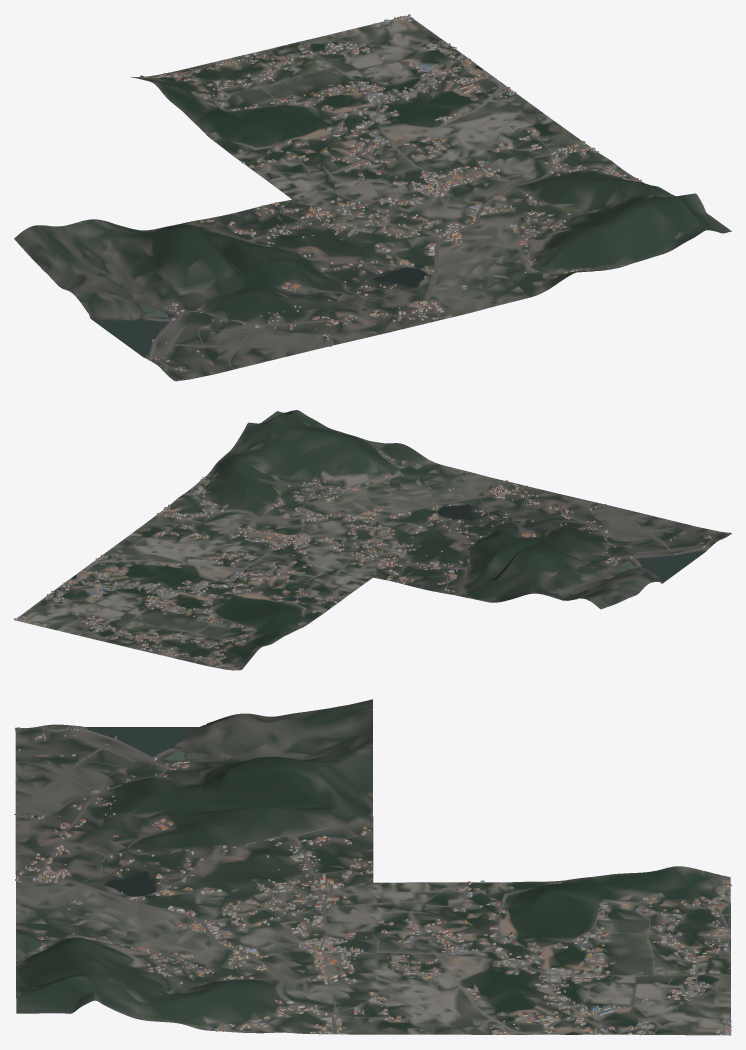
3 views of the same model, one above another, from view 1: azimuth 30°, elevation 25°; view 2: azimuth 150°, elevation 25°; view 3: azimuth 270°, elevation 25° (orthographic). The views are drawn at different scales.
Parts seen in each view (by area): view 1: ground, buildings, roads, water; view 2: ground, buildings, roads, water; view 3: ground, buildings, roads, water.
Part boxes in pixels (left/top/right/bottom): ground: left=14, top=15, right=731, bottom=381; buildings: left=140, top=14, right=641, bottom=379; roads: left=139, top=18, right=636, bottom=381; water: left=91, top=65, right=483, bottom=356; ground: left=14, top=410, right=731, bottom=670; buildings: left=14, top=455, right=726, bottom=670; roads: left=17, top=439, right=731, bottom=669; water: left=70, top=504, right=705, bottom=582; ground: left=15, top=699, right=731, bottom=1035; buildings: left=15, top=726, right=731, bottom=1035; roads: left=14, top=725, right=730, bottom=1034; water: left=86, top=727, right=578, bottom=1034.
Size of the model in its own units: 2805 by 193 by 2816.
